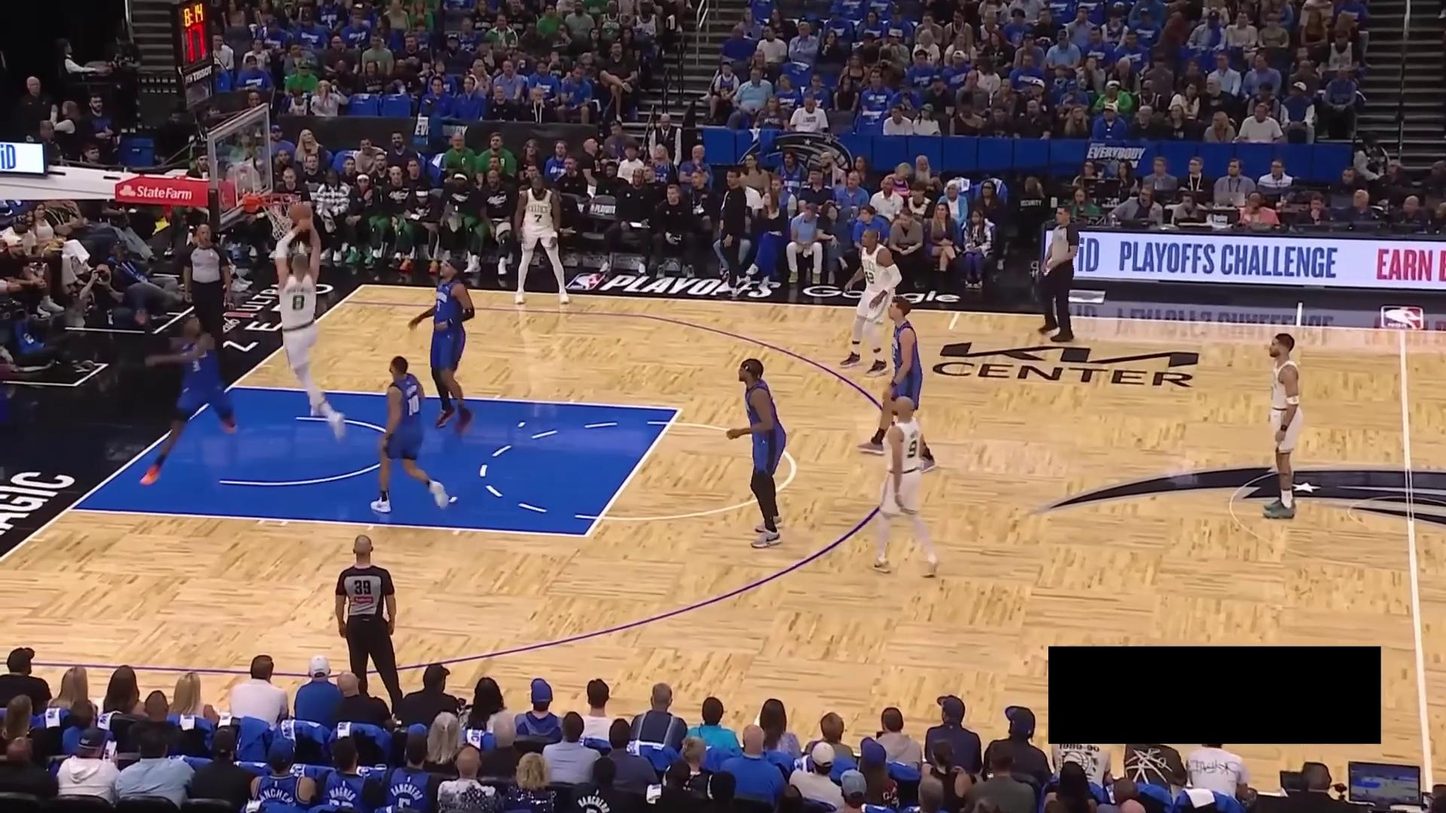ball: (288, 202, 313, 226)
number: (408, 394, 420, 418), (908, 439, 919, 457), (292, 294, 304, 310), (863, 270, 875, 284), (191, 359, 202, 372), (534, 214, 543, 222)
player: (132, 309, 237, 483), (868, 394, 952, 578), (861, 289, 939, 475), (403, 256, 482, 438), (364, 351, 450, 516), (729, 352, 787, 549), (1252, 325, 1310, 522), (842, 227, 903, 375), (508, 169, 572, 302)
player-layup-dunk: (273, 201, 355, 437)
referee: (334, 528, 405, 701), (180, 221, 237, 359), (1035, 205, 1087, 341)
rim: (259, 192, 301, 206)
